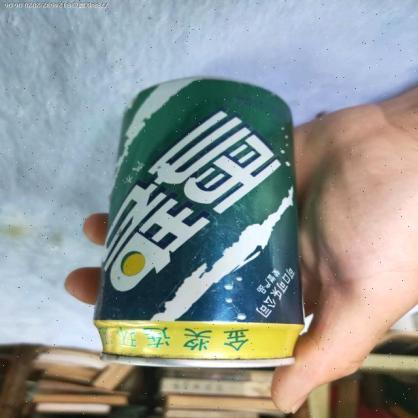can: (91, 77, 306, 372)
